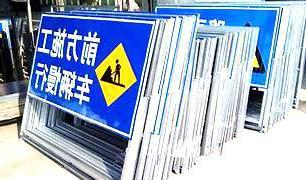sign: (25, 11, 157, 142)
